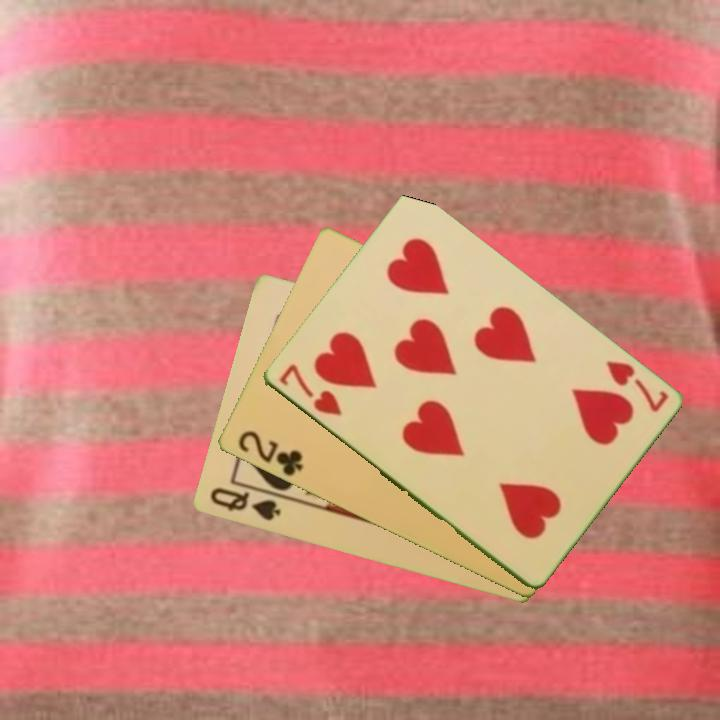2c: (234, 427, 306, 480)
7h: (275, 360, 345, 419), (601, 357, 671, 416)
Qs: (205, 484, 283, 524)
